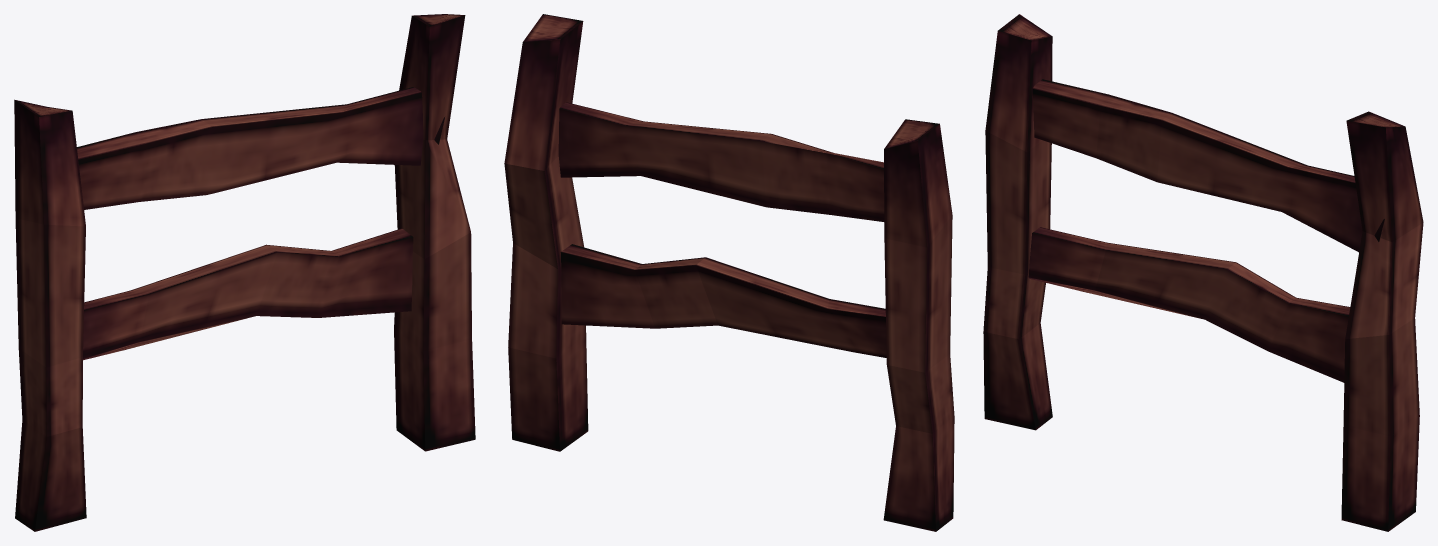
File: fence2.glb
3 views of the same model, side by side, from view 1: azimuth 30°, elevation 25°; view 2: azimuth 150°, elevation 25°; view 3: azimuth 330°, elevation 25° (orthographic). The views are drawn at different scales.
Parts seen in each view (by area): view 1: Cube.006, Cube.007, Cube.001, Cube.002; view 2: Cube.007, Cube.006, Cube.001, Cube.002; view 3: Cube.007, Cube.006, Cube.001, Cube.002.
Boxes of the visible parts, <box> form: Cube.006: <box>14,99,86,531</box>; Cube.007: <box>394,14,475,451</box>; Cube.001: <box>77,87,444,209</box>; Cube.002: <box>83,228,413,360</box>; Cube.007: <box>504,14,588,451</box>; Cube.006: <box>883,119,954,531</box>; Cube.001: <box>558,102,884,221</box>; Cube.002: <box>560,244,886,357</box>; Cube.007: <box>1341,111,1423,531</box>; Cube.006: <box>983,14,1052,430</box>; Cube.001: <box>1032,79,1384,252</box>; Cube.002: <box>1028,227,1350,382</box>.
Size of the model in its own units: 0.5535 by 0.5147 by 0.0916.
Materials: 4 (4 with a texture image).
